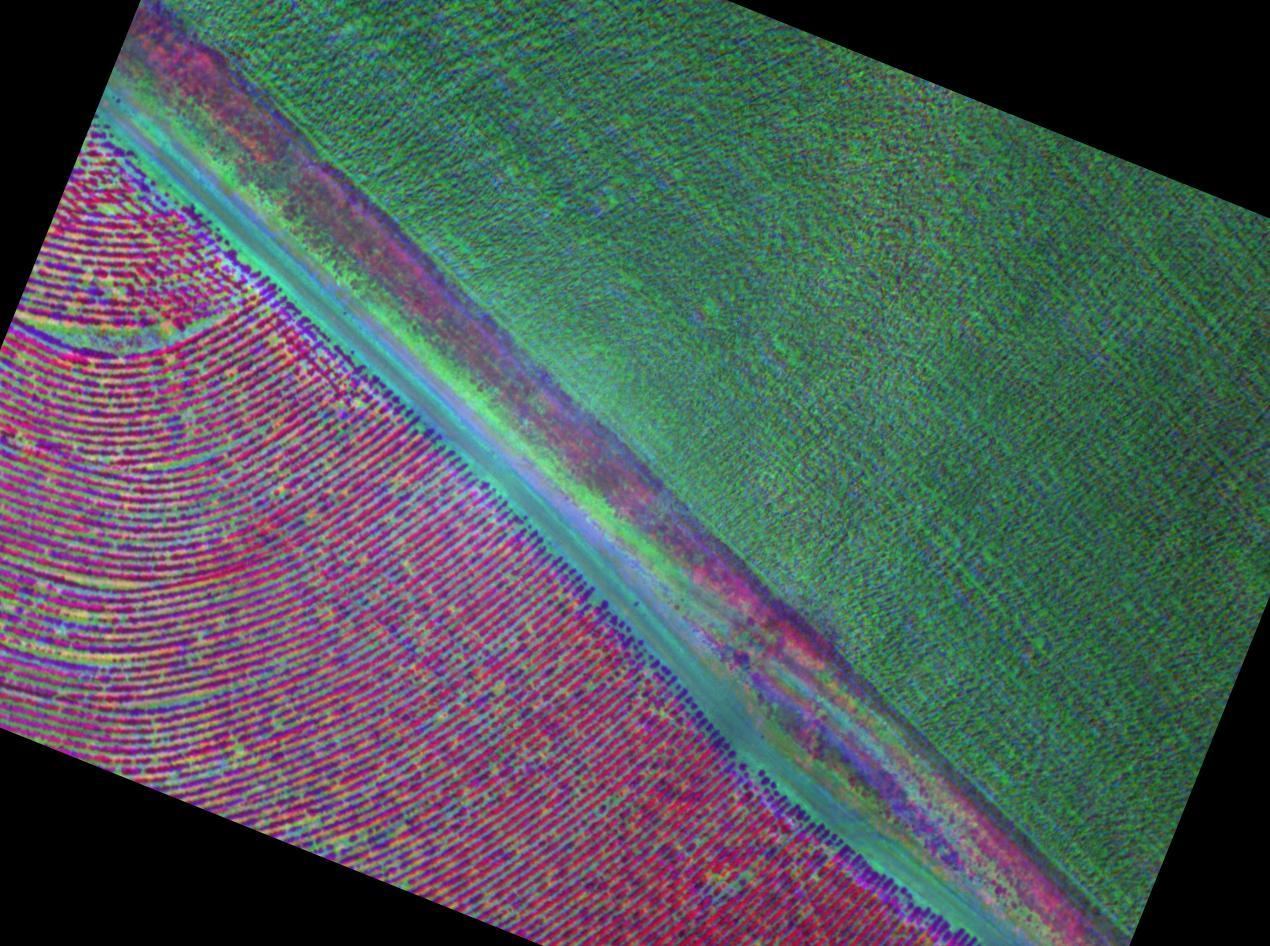dc: (13, 308, 245, 362), (13, 565, 123, 656), (148, 675, 248, 766), (173, 450, 277, 521), (293, 800, 368, 860)
